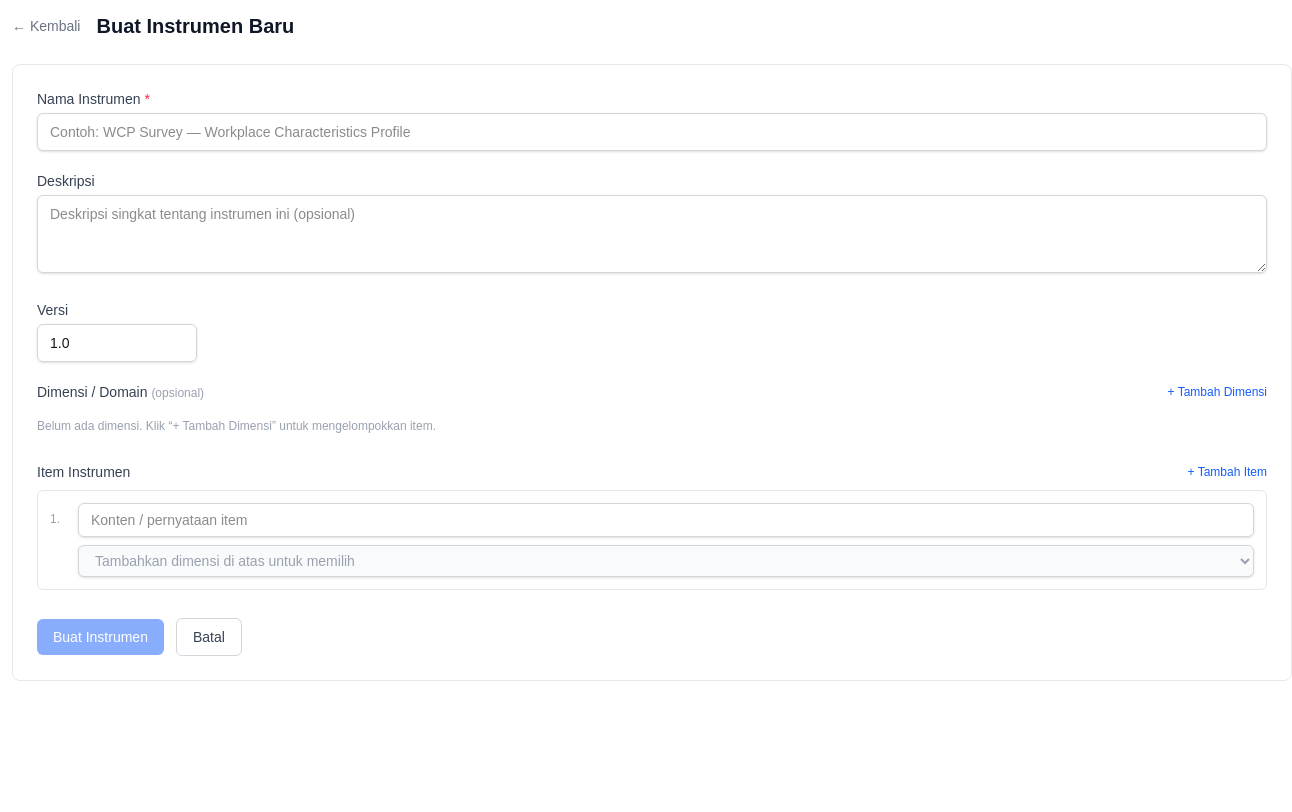
it: NewInstrumentPage › harus menampilkan error jika pembuatan instrumen gagal (step 1)
Type "Instrumen Gagal" into the field labelled "Nama Instrumen *" at (652, 132), box left=37, top=113, right=1267, bottom=151
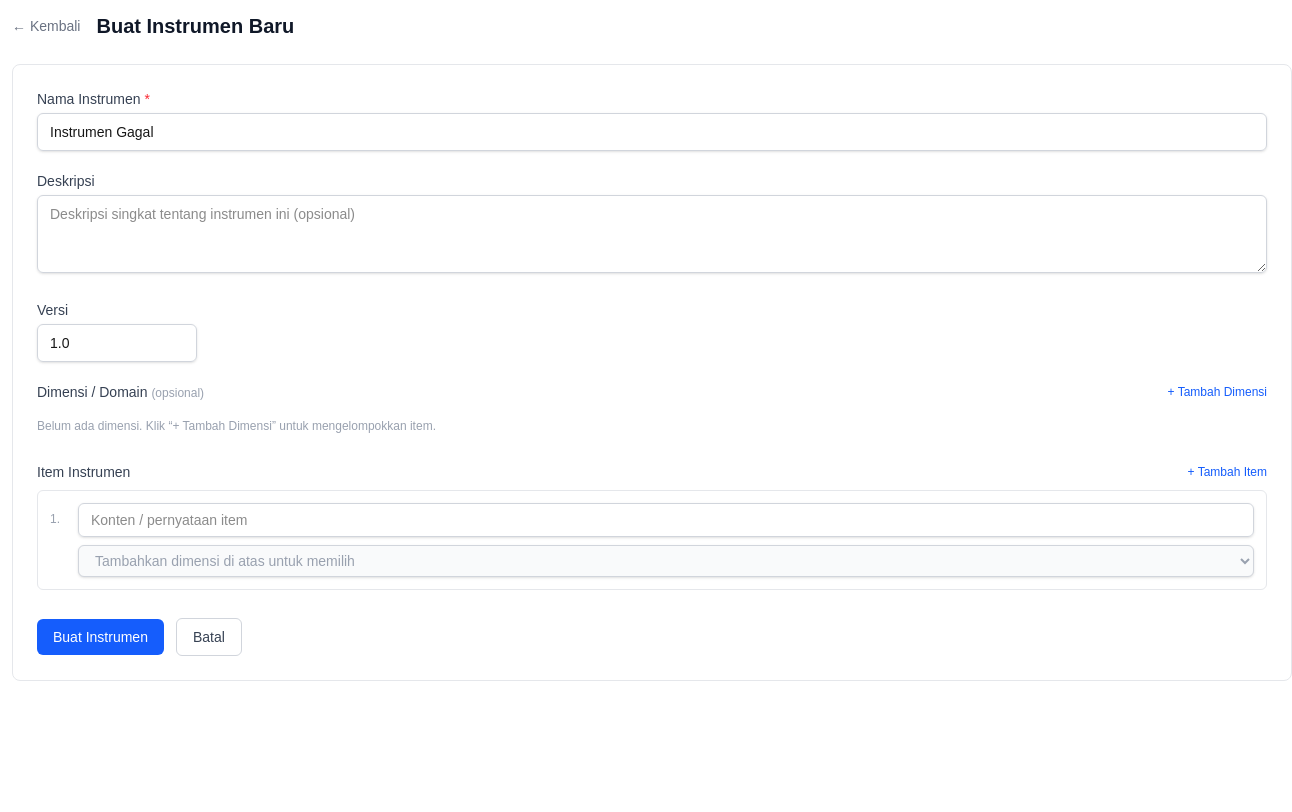
# Item dibiarkan kosong agar tidak ada step 3
Click the button "Buat Instrumen" at (100, 637), box left=37, top=619, right=164, bottom=655
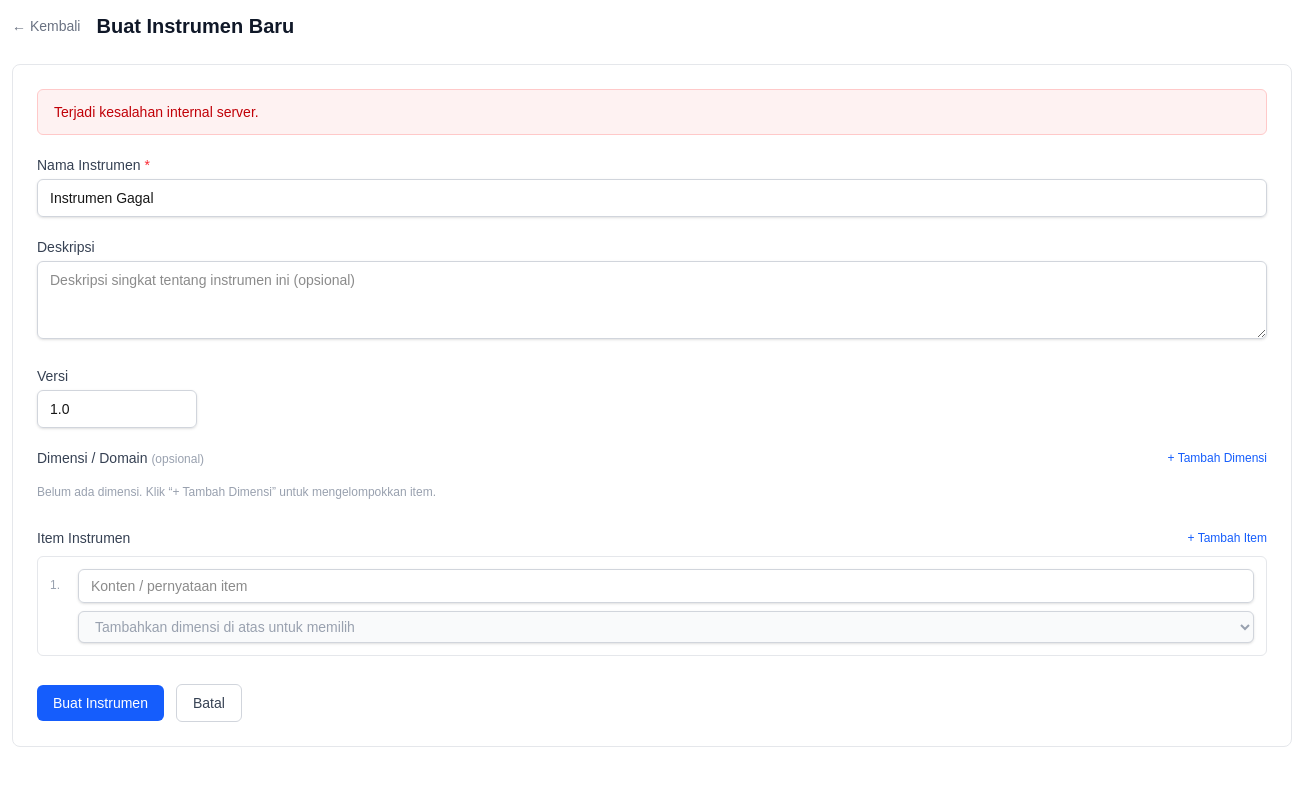
Expected: the text "Terjadi kesalahan internal server." is shown, left=37, top=89, right=1267, bottom=135
